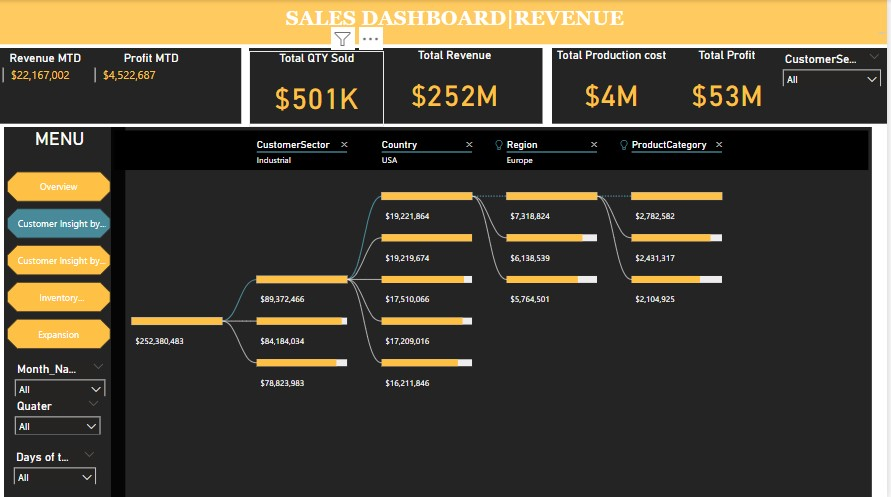

This screenshot's page, from the dashboard's own definition file:
{"tool":"powerbi","page":{"name":"Customer Insight by Revenue","canvas":[1280,720],"ordinal":1},"visuals":[{"type":"shape","box":[161.3,182.9,1095.8,537.1],"z":0},{"type":"decompositionTreeVisual","fields":{"Analyze":["Calculations.Total Revenue"],"ExplainBy":["CUSTOMER_DIM.CustomerSector","LOCATION_DIM.Country","LOCATION_DIM.Region","PRODUCT_DIM.ProductCategory"]},"box":[161.3,182.9,1095.8,537.1],"z":1000},{"type":"shape","box":[0,0,1280,63.8],"z":2000},{"type":"shape","box":[0,68.9,349.4,109.2],"z":3000},{"type":"shape","box":[796.2,68.9,483.8,109.2],"z":4000},{"type":"shape","box":[359.5,68.9,423.3,109.2],"z":5000},{"type":"shape","box":[6.7,183.1,174.7,537.5],"z":6000},{"type":"textbox","title":"TECHTRONIX SALES DASHBOARD|REVENUE","box":[33.1,8.6,1247,44.6],"z":7000},{"type":"slicer","fields":{"Values":["Calender_Dim.Month_Name"]},"box":[13,515.5,149.8,54.7],"z":8000},{"type":"slicer","fields":{"Values":["Calender_Dim.Quater"]},"box":[13.4,569.4,142.8,57.1],"z":9000},{"type":"slicer","fields":{"Values":["Calender_Dim.Days of the week"]},"box":[11.5,642.2,138.2,54.7],"z":10000},{"type":"cardVisual","title":"Total QTY Sold","fields":{"Data":["Calculations.Total QTY Sold"]},"box":[359.5,73.9,194.9,109.2],"z":11000},{"type":"cardVisual","title":"Total Revenue","fields":{"Data":["Calculations.Total Revenue"]},"box":[554.3,68.9,203.3,109.2],"z":12000},{"type":"cardVisual","title":"Total Profit","fields":{"Data":["Calculations.Total Profit"]},"box":[967.6,68.9,161.3,109.2],"z":13000},{"type":"cardVisual","title":"Total Production cost","fields":{"Data":["Calculations.Total Production Cost"]},"box":[796.2,68.9,171.3,109.2],"z":14000},{"type":"slicer","fields":{"Values":["CUSTOMER_DIM.CustomerSector"]},"box":[1118.7,69.1,161.3,54.7],"z":15000},{"type":"multiRowCard","title":"Revenue MTD","fields":{"Values":["Calculations.Revenue MTD"]},"box":[0,73.9,132.7,77.3],"z":16000},{"type":"multiRowCard","title":"Profit MTD","fields":{"Values":["Calculations.Profit MTD"]},"box":[132.7,73.9,173,77.3],"z":17000},{"type":"textbox","title":"MENU","box":[0,184.8,174.7,33.6],"z":18000},{"type":"pageNavigator","title":"MENU","box":[11.5,223.2,149.8,279.4],"z":19000}]}

Visuals, with their boxes in screenshot pixels (x1, y1, x2, y2), scaled from the page's 1280x720 canvas onto the 891x497 screenshot:
shape: l=112, t=126, r=875, b=496
decompositionTreeVisual - Calculations.Total Revenue x CUSTOMER_DIM.CustomerSector: l=112, t=126, r=875, b=496
shape: l=0, t=0, r=890, b=44
shape: l=0, t=48, r=243, b=123
shape: l=554, t=48, r=890, b=123
shape: l=250, t=48, r=545, b=123
shape: l=5, t=126, r=126, b=496
"TECHTRONIX SALES DASHBOARD|REVENUE" textbox: l=23, t=6, r=890, b=37
slicer - Calender_Dim.Month_Name: l=9, t=356, r=113, b=394
slicer - Calender_Dim.Quater: l=9, t=393, r=109, b=432
slicer - Calender_Dim.Days of the week: l=8, t=443, r=104, b=481
"Total QTY Sold" cardVisual: l=250, t=51, r=386, b=126
"Total Revenue" cardVisual: l=386, t=48, r=527, b=123
"Total Profit" cardVisual: l=674, t=48, r=786, b=123
"Total Production cost" cardVisual: l=554, t=48, r=673, b=123
slicer - CUSTOMER_DIM.CustomerSector: l=779, t=48, r=890, b=85
"Revenue MTD" multiRowCard: l=0, t=51, r=92, b=104
"Profit MTD" multiRowCard: l=92, t=51, r=213, b=104
"MENU" textbox: l=0, t=128, r=122, b=151
"MENU" pageNavigator: l=8, t=154, r=112, b=347
